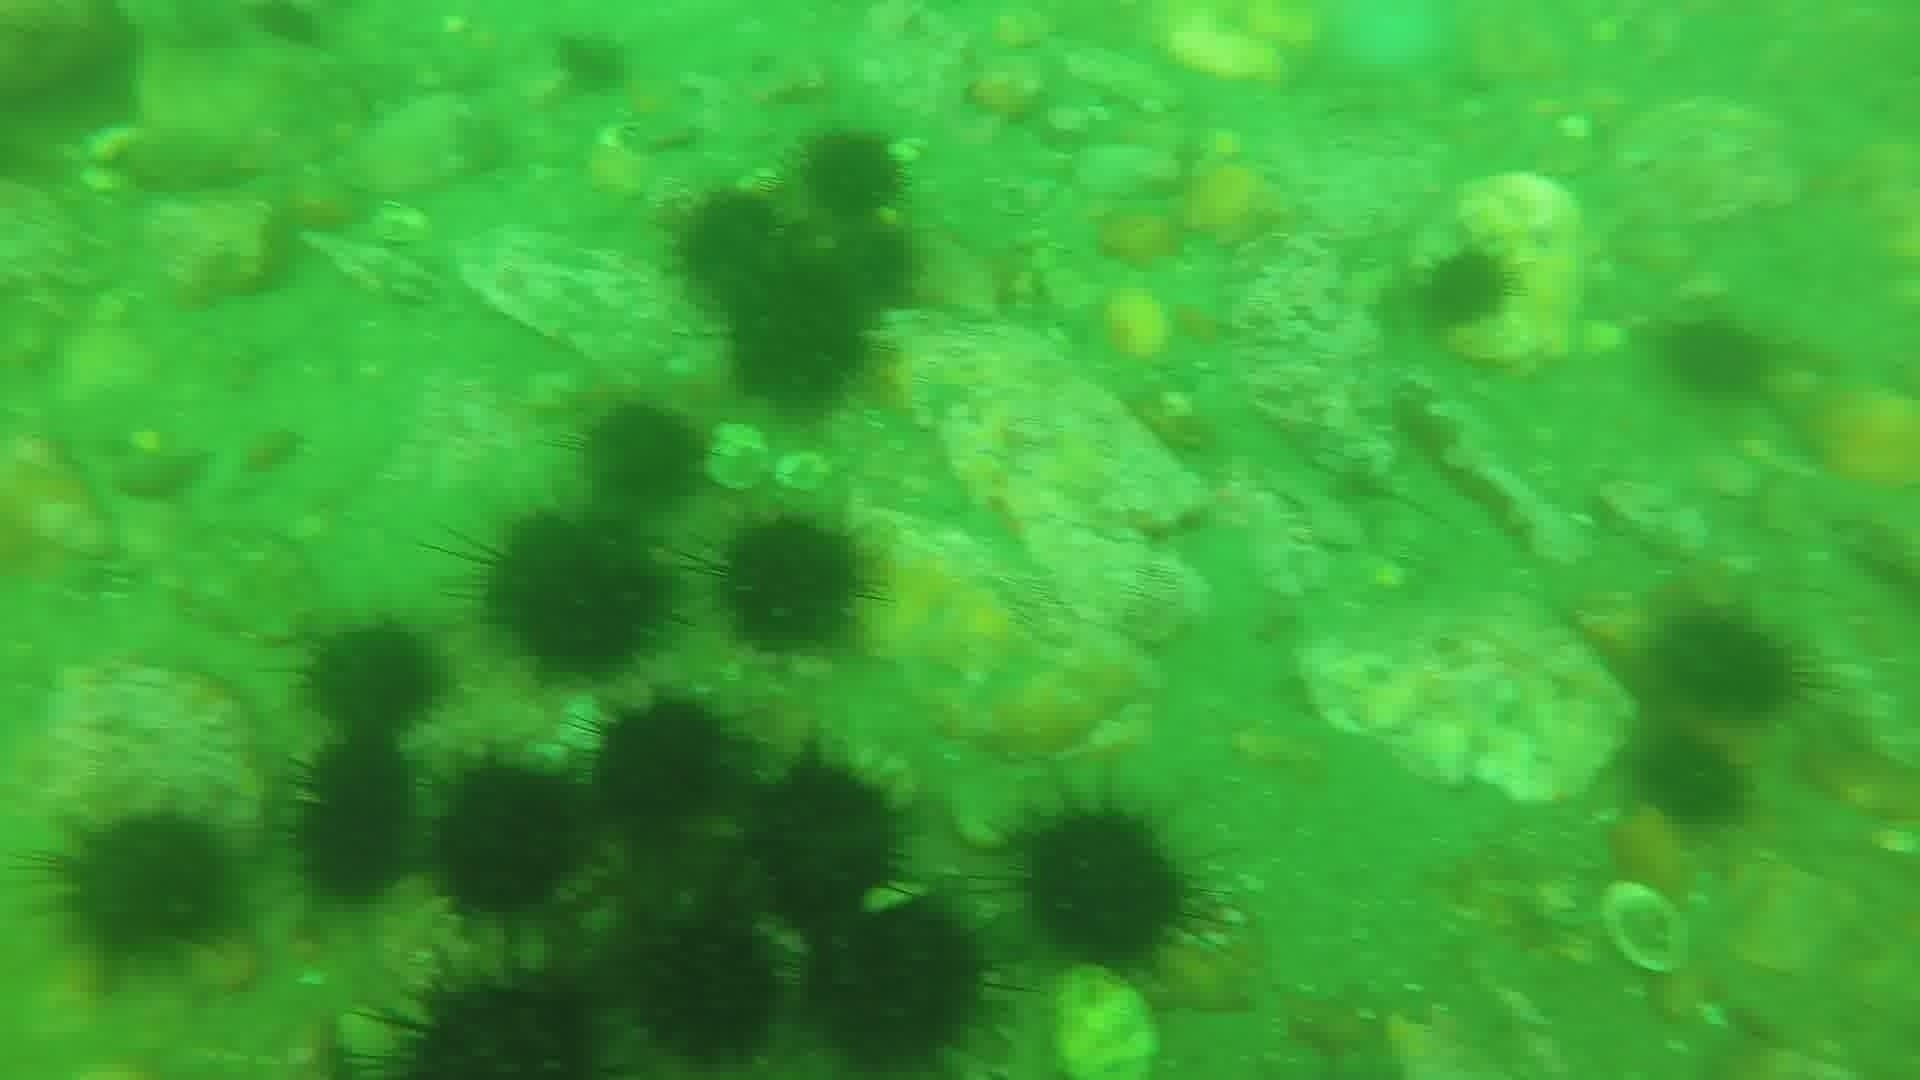echinus: (465, 508, 673, 682), (796, 891, 998, 1069), (1011, 799, 1205, 973), (45, 806, 243, 968), (741, 750, 913, 924), (369, 961, 620, 1076), (429, 758, 588, 920), (632, 913, 789, 1065), (711, 512, 873, 657), (721, 261, 876, 411), (287, 736, 419, 905), (582, 694, 731, 828), (1650, 604, 1807, 725), (301, 618, 443, 735), (574, 397, 709, 510), (670, 186, 785, 295), (1633, 728, 1751, 832), (794, 127, 909, 224), (1659, 313, 1774, 404), (820, 222, 923, 313), (1416, 245, 1518, 334), (550, 29, 634, 99), (247, 1, 328, 53)
